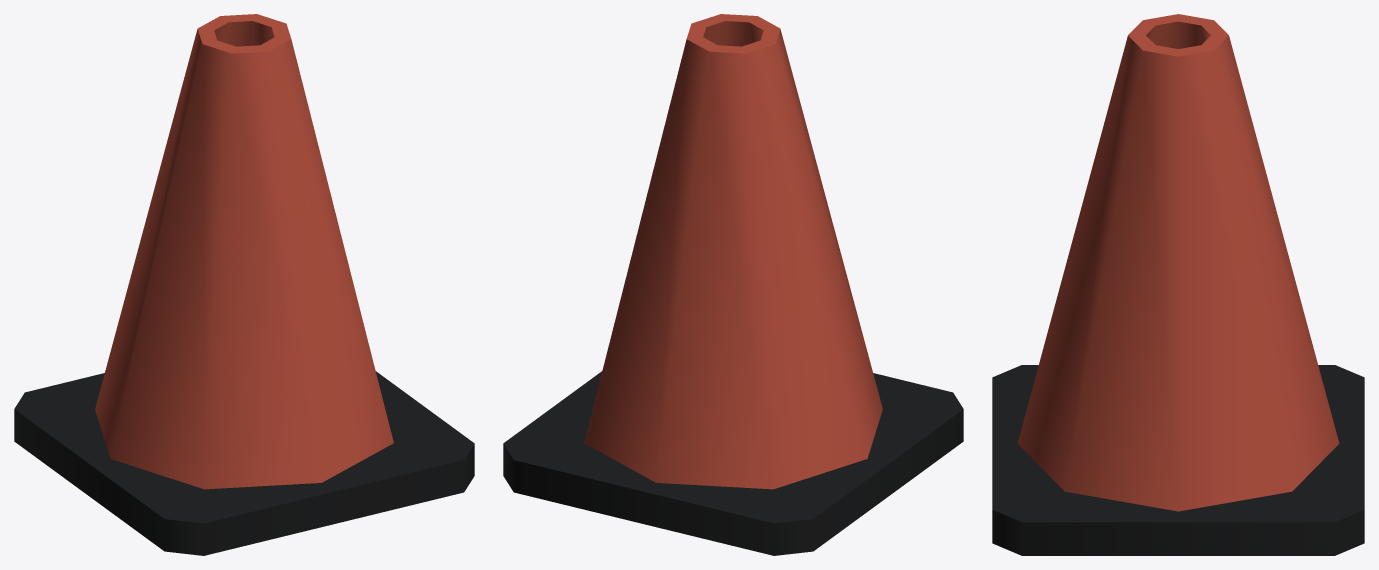
The picture shows the model from 3 angles, left to right: view 1: azimuth 30°, elevation 25°; view 2: azimuth 150°, elevation 25°; view 3: azimuth 270°, elevation 25°; orthographic projection. The views are drawn at different scales.
Visible parts, largest first — view 1: Traffic Cone; view 2: Traffic Cone; view 3: Traffic Cone.
Part boxes in pixels (x1,y1,x2,y2): Traffic Cone: (14, 14, 474, 555); Traffic Cone: (503, 14, 963, 555); Traffic Cone: (992, 14, 1364, 555).
Size of the model in its own units: 0.5347 by 0.7 by 0.5347.
Materials: 1 (1 with a texture image).
